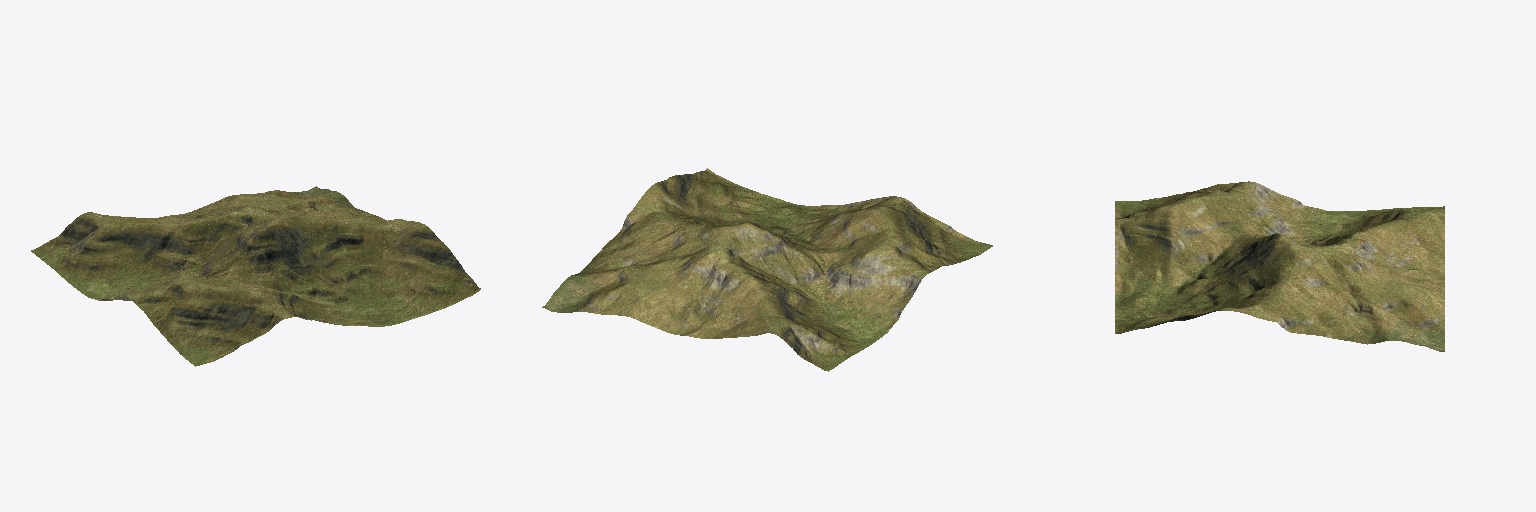
The picture shows the model from 3 angles: view 1: azimuth 30°, elevation 25°; view 2: azimuth 150°, elevation 25°; view 3: azimuth 270°, elevation 25°; orthographic projection.
Visible parts, largest first — view 1: terrain_o; view 2: terrain_o; view 3: terrain_o.
Boxes of the visible parts, x1,y1,x2,y2 form: terrain_o: [31, 186, 480, 366]; terrain_o: [542, 168, 992, 371]; terrain_o: [1115, 181, 1444, 351].
Size of the model in its own units: 5120 by 950 by 5120.
1 materials, 1 textured.